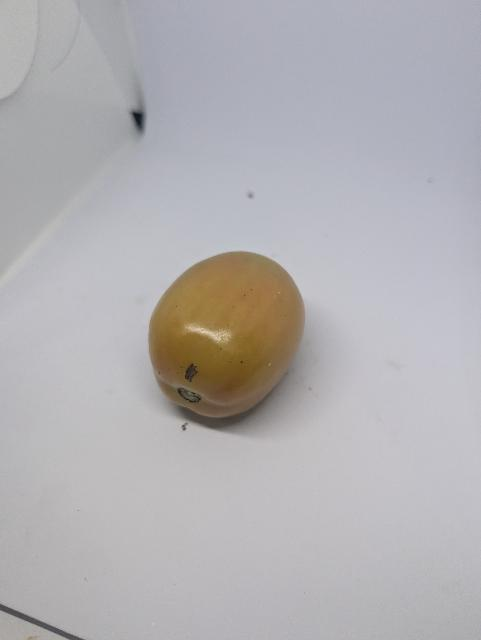turning: (149, 252, 305, 417)
